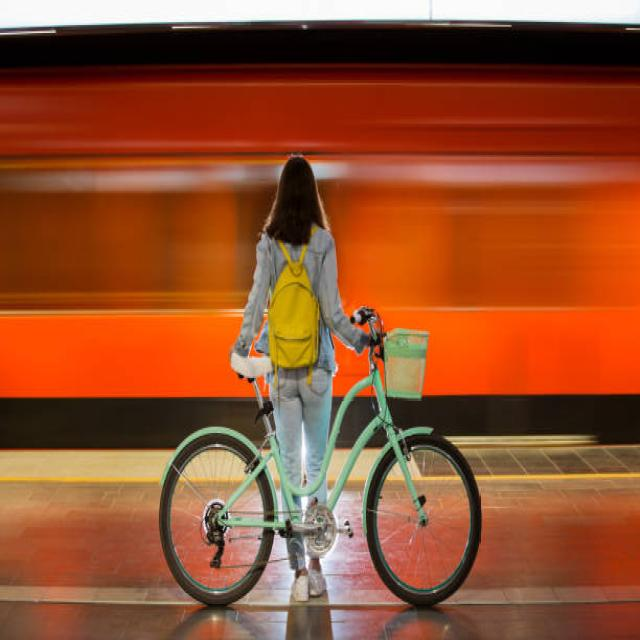bicycle: (159, 158, 481, 606)
